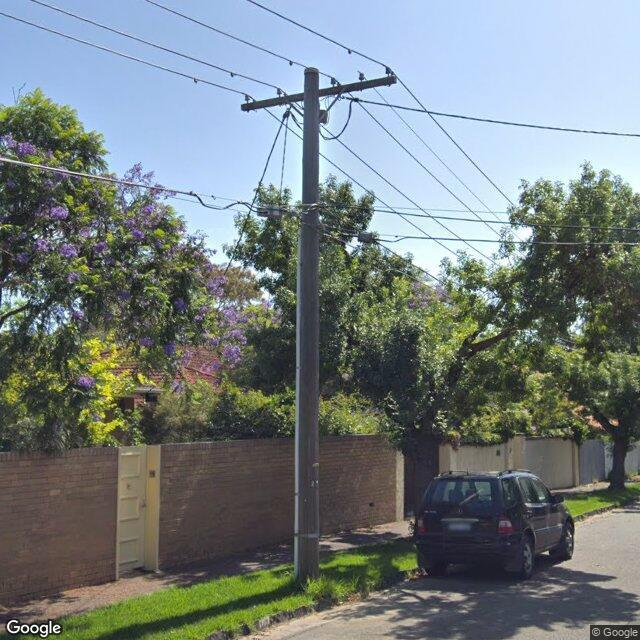crossarm: (193, 49, 398, 112)
timber-pole: (294, 66, 322, 582)
